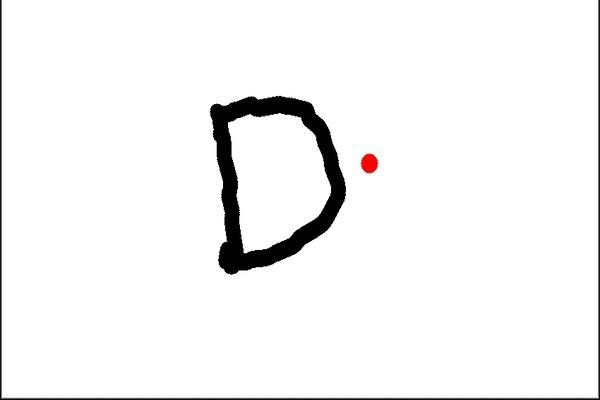D: (204, 92, 351, 275)
